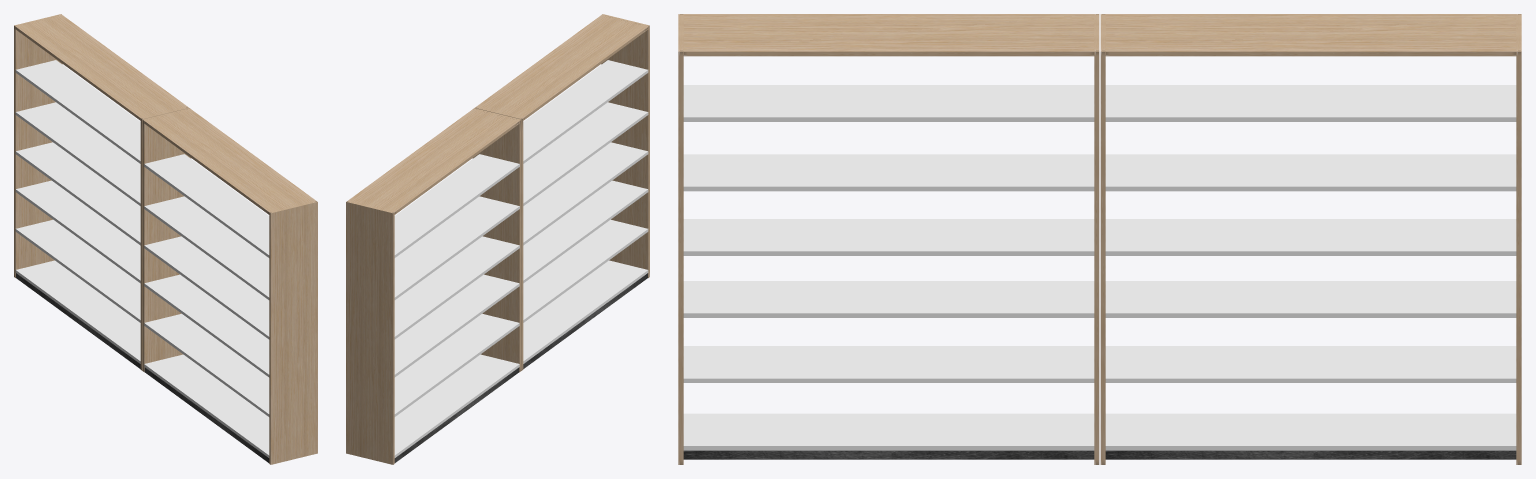
The model's file is BookRack02.fbx.
3 renders of one model, left to right at view 1: azimuth 30°, elevation 25°; view 2: azimuth 150°, elevation 25°; view 3: azimuth 270°, elevation 25°, orthographic. The views are drawn at different scales.
Parts seen in each view (by area): view 1: BookRack02; view 2: BookRack02; view 3: BookRack02.
Part boxes in pixels (box(x1,y1,x2,y2)): BookRack02: box(14, 14, 317, 464); BookRack02: box(346, 14, 649, 464); BookRack02: box(678, 14, 1521, 464).
Bounding box in the file's own units: 0.4598 × 2.35 × 4.34.
